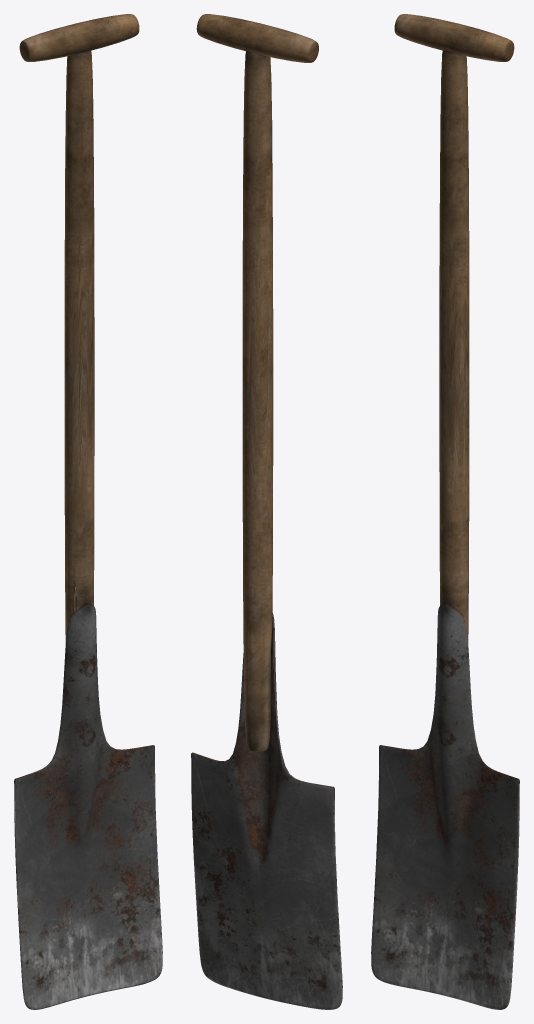
Rendered from rusted_spade_01.gltf.
The picture shows the model from 3 angles, left to right: view 1: azimuth 30°, elevation 25°; view 2: azimuth 150°, elevation 25°; view 3: azimuth 330°, elevation 25°; orthographic projection. The views are drawn at different scales.
Visible parts, largest first — view 1: rusted_spade_01; view 2: rusted_spade_01; view 3: rusted_spade_01.
Boxes of the visible parts, x1,y1,x2,y2 form: rusted_spade_01: [14, 14, 162, 1009]; rusted_spade_01: [191, 14, 342, 1009]; rusted_spade_01: [371, 14, 519, 1009].
Size of the model in its own units: 0.1681 by 1.1 by 0.0456.
Materials: 1 (1 with a texture image).
